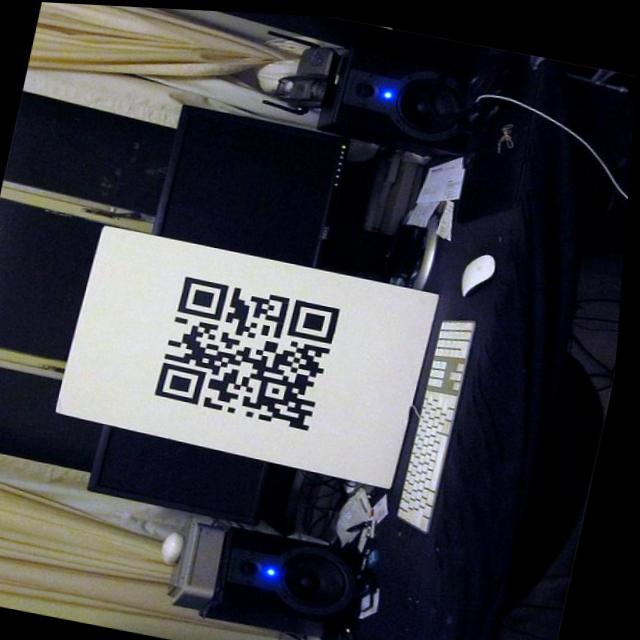qrcode: (161, 274, 347, 429)
